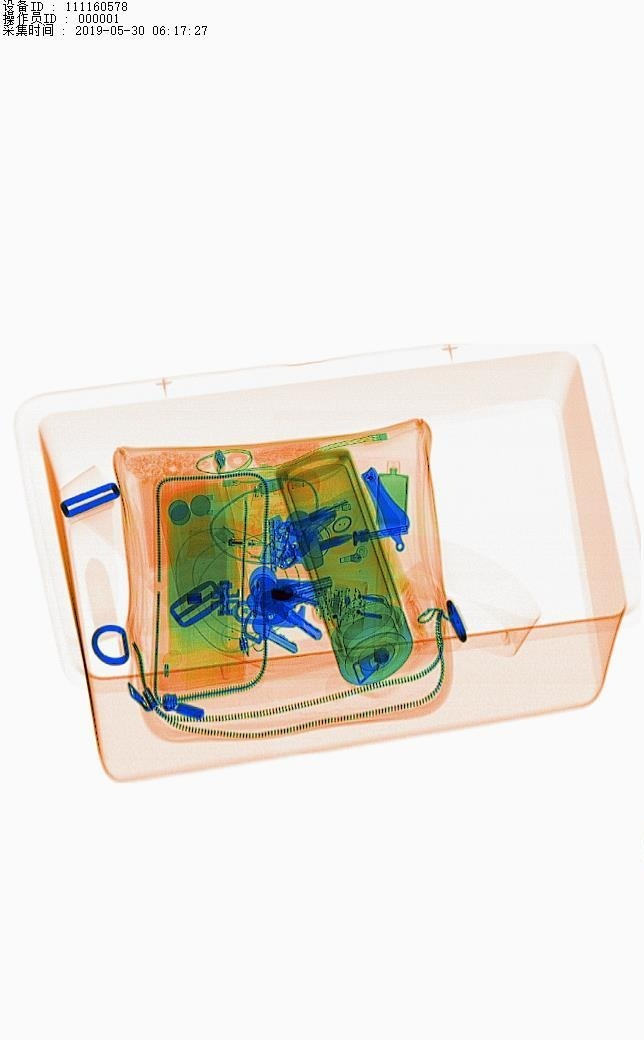NonmetallicFire: (179, 522, 295, 576)
